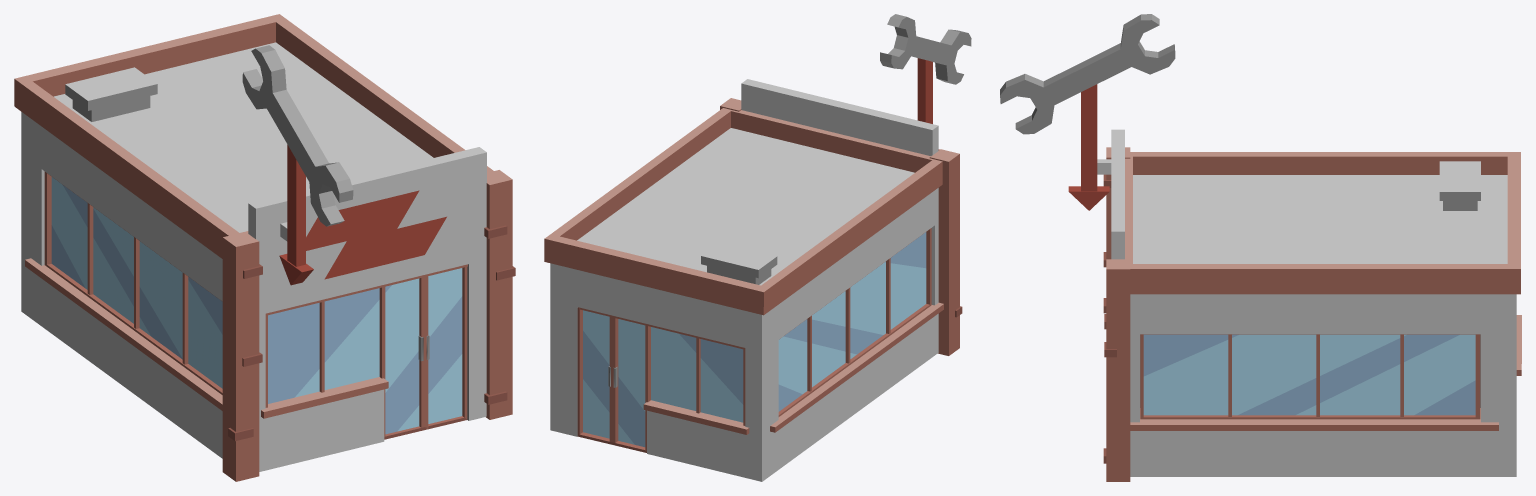
The model's file is services_store_007.glb.
The picture shows the model from 3 angles, left to right: view 1: azimuth 30°, elevation 25°; view 2: azimuth 150°, elevation 25°; view 3: azimuth 270°, elevation 25°; orthographic projection. The views are drawn at different scales.
Visible parts, largest first — view 1: services_store_007; view 2: services_store_007; view 3: services_store_007.
Boxes of the visible parts, x1,y1,x2,y2 form: services_store_007: (14, 14, 515, 481); services_store_007: (544, 14, 971, 481); services_store_007: (1000, 14, 1521, 481).
Bounding box in the file's own units: 4.04 × 5.56 × 7.2.
1 material, 1 textured.
